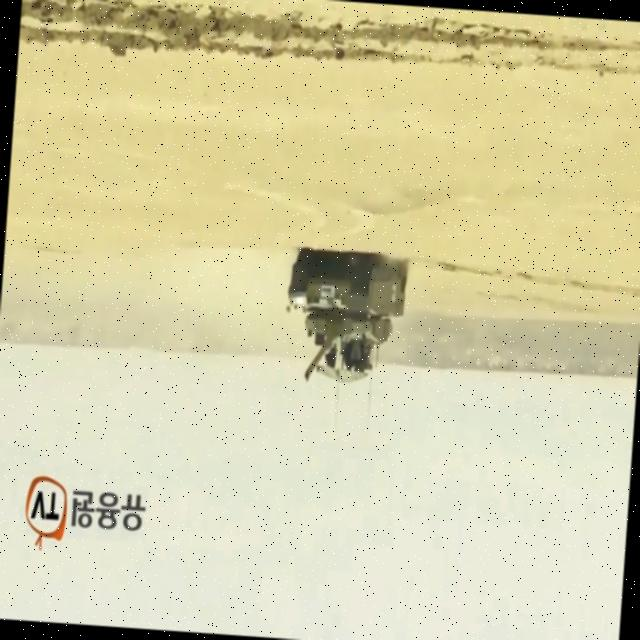korea tank: (280, 240, 410, 388)
